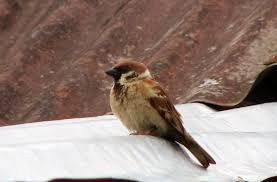hsparrow: (96, 58, 222, 170)
